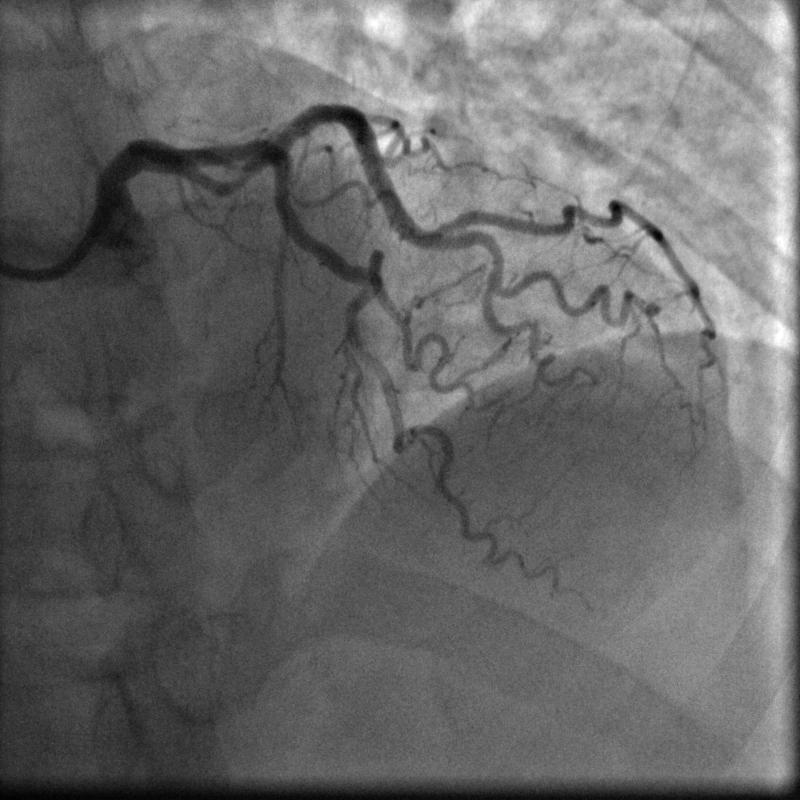Stenosis: (215, 161, 254, 196)
